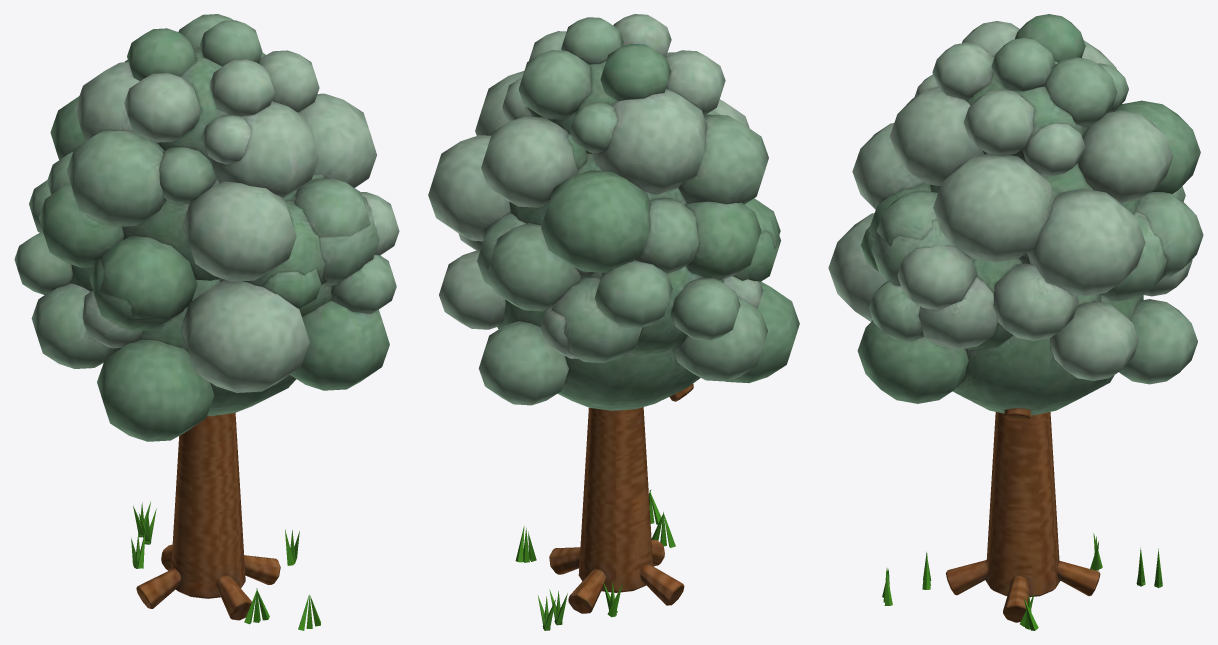
Rendered from silver_pear_tree.glb.
3 views of the same model, side by side, from view 1: azimuth 30°, elevation 25°; view 2: azimuth 150°, elevation 25°; view 3: azimuth 270°, elevation 25° (orthographic).
Parts seen in each view (by area): view 1: crown, silver_pear_tree; view 2: crown, silver_pear_tree; view 3: crown, silver_pear_tree.
Boxes of the visible parts, left/top/right/bottom form: crown: left=14, top=14, right=399, bottom=441; silver_pear_tree: left=131, top=413, right=320, bottom=630; crown: left=428, top=14, right=799, bottom=410; silver_pear_tree: left=515, top=384, right=693, bottom=630; crown: left=828, top=14, right=1203, bottom=414; silver_pear_tree: left=882, top=408, right=1162, bottom=630.
Bounding box in the file's own units: 0.8554 × 1.49 × 0.8941.
1 material, 1 textured.
